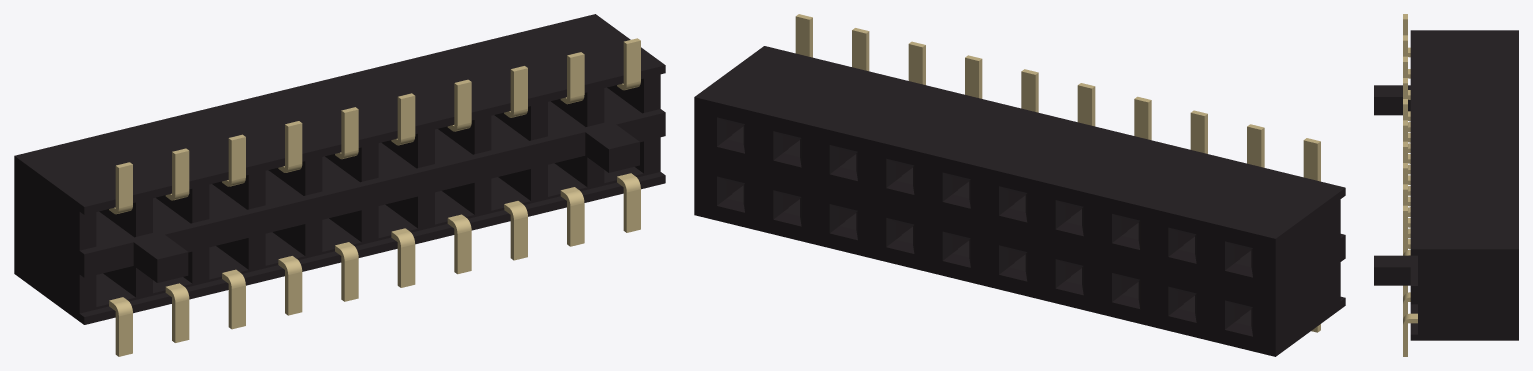
The model's file is sfe-2x10_2.0mm_socket_smd_peg-1.1x0.8mm.glb.
3 renders of one model, left to right at view 1: azimuth 30°, elevation 25°; view 2: azimuth 150°, elevation 25°; view 3: azimuth 270°, elevation 25°, orthographic. The views are drawn at different scales.
Visible parts, largest first — view 1: 0_0_0_0, 0.5833333333333334_0.5_0.25_0; view 2: 0_0_0_0, 0.5833333333333334_0.5_0.25_0; view 3: 0_0_0_0, 0.5833333333333334_0.5_0.25_0.
Boxes of the visible parts, left/top/right/bottom form: 0_0_0_0: left=14, top=14, right=665, bottom=324; 0.5833333333333334_0.5_0.25_0: left=109, top=38, right=640, bottom=356; 0_0_0_0: left=694, top=46, right=1345, bottom=356; 0.5833333333333334_0.5_0.25_0: left=795, top=14, right=1320, bottom=332; 0_0_0_0: left=1374, top=30, right=1518, bottom=340; 0.5833333333333334_0.5_0.25_0: left=1403, top=14, right=1417, bottom=356.
Bounding box in the file's own units: 2.06 × 0.6401 × 0.5749.
